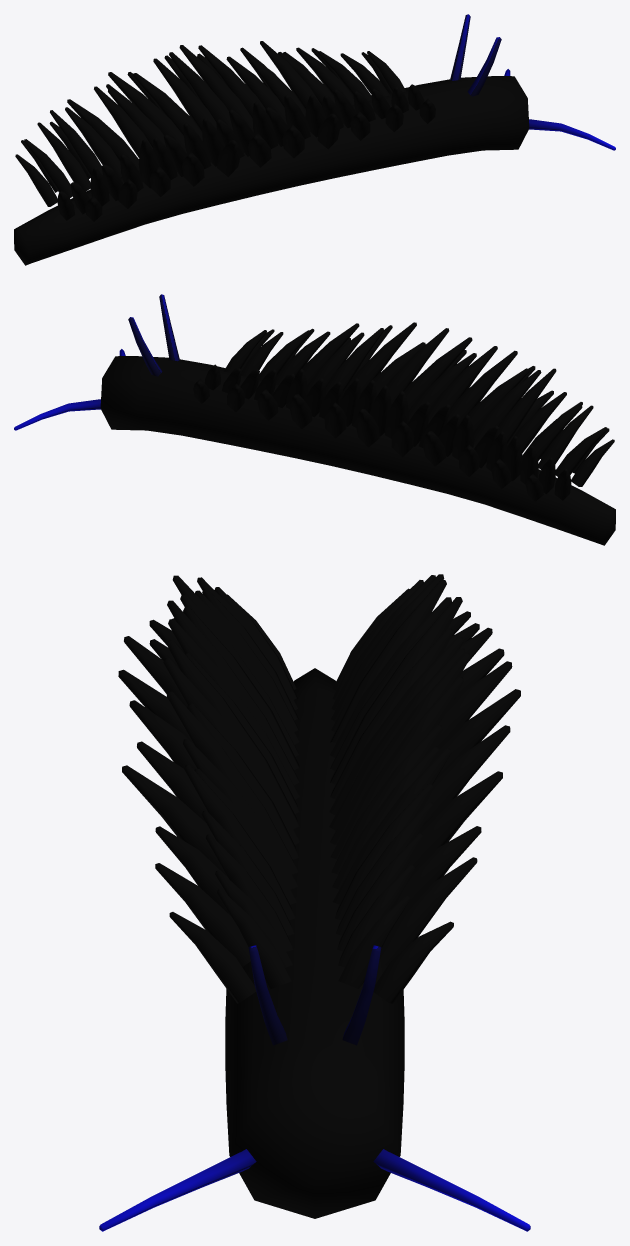
File: berghia.glb
3 renders of one model, top to bottom at view 1: azimuth 30°, elevation 25°; view 2: azimuth 150°, elevation 25°; view 3: azimuth 270°, elevation 25°, orthographic. The views are drawn at different scales.
Visible parts, largest first — view 1: Cerata, Body, Antennae; view 2: Cerata, Body, Antennae; view 3: Cerata, Body, Antennae.
Boxes of the visible parts, x1,y1,x2,y2 form: Cerata: (15,41,435,221); Body: (14,76,529,265); Antennae: (450,14,615,150); Cerata: (193,322,614,501); Body: (100,356,615,545); Antennae: (14,294,179,430); Cerata: (118,574,520,1003); Body: (225,668,404,1218); Antennae: (99,945,530,1231).
Size of the model in its own units: 0.9903 by 0.2517 by 0.3371.
1 material, 1 textured.
